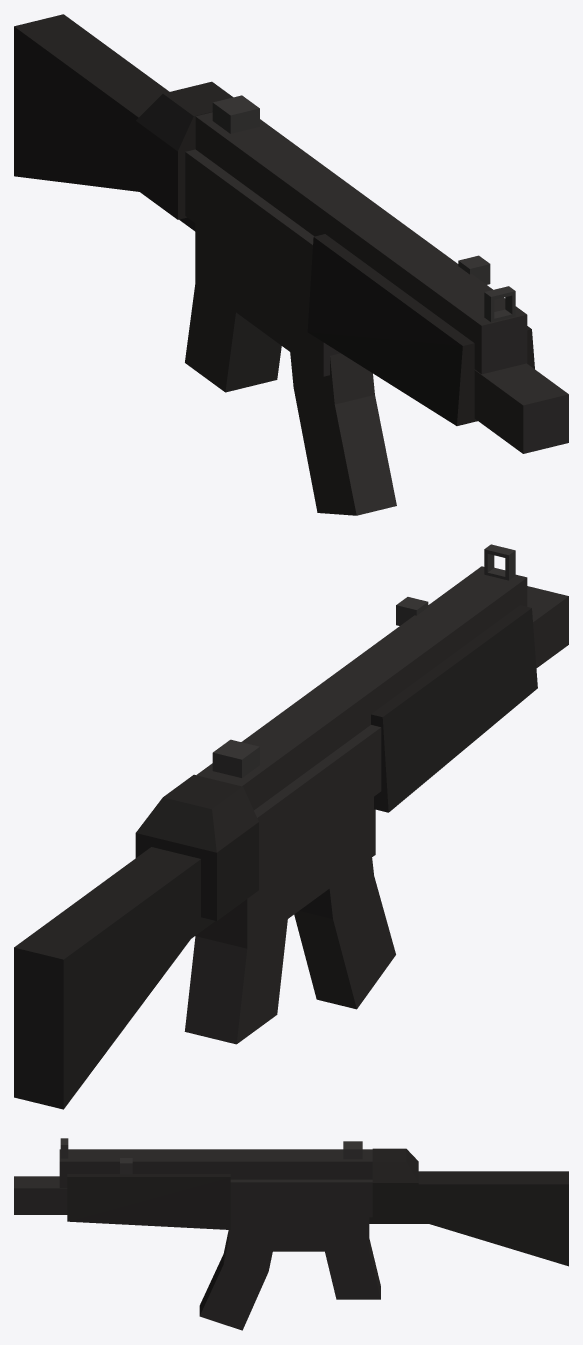
The model's file is SMG5.FBX.
3 views of the same model, one above another, from view 1: azimuth 30°, elevation 25°; view 2: azimuth 150°, elevation 25°; view 3: azimuth 270°, elevation 25° (orthographic). The views are drawn at different scales.
Parts seen in each view (by area): view 1: SMG5, SMG5_mag; view 2: SMG5, SMG5_mag; view 3: SMG5, SMG5_mag.
Part boxes in pixels (<box>): SMG5: <box>14,14,568,453</box>; SMG5_mag: <box>290,352,396,515</box>; SMG5: <box>14,544,568,1109</box>; SMG5_mag: <box>294,858,395,1009</box>; SMG5: <box>14,1138,568,1299</box>; SMG5_mag: <box>199,1231,272,1330</box>.
Size of the model in its own units: 14.94 by 160 by 58.48.
